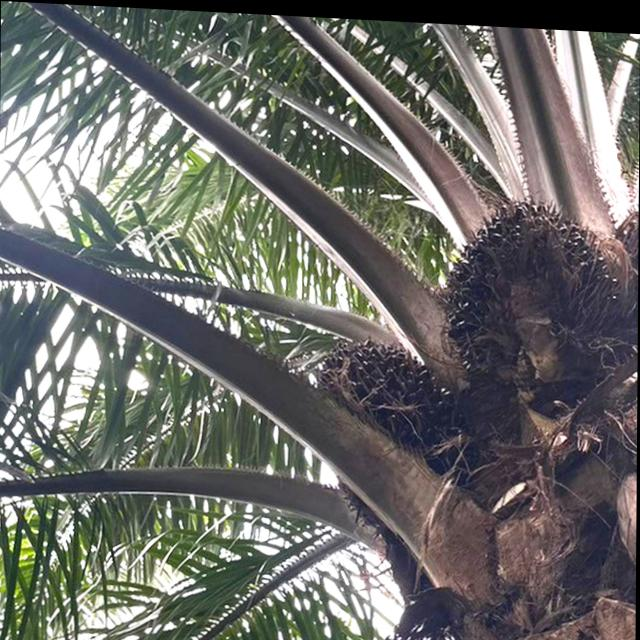almost: (443, 188, 618, 385), (311, 325, 457, 537)
